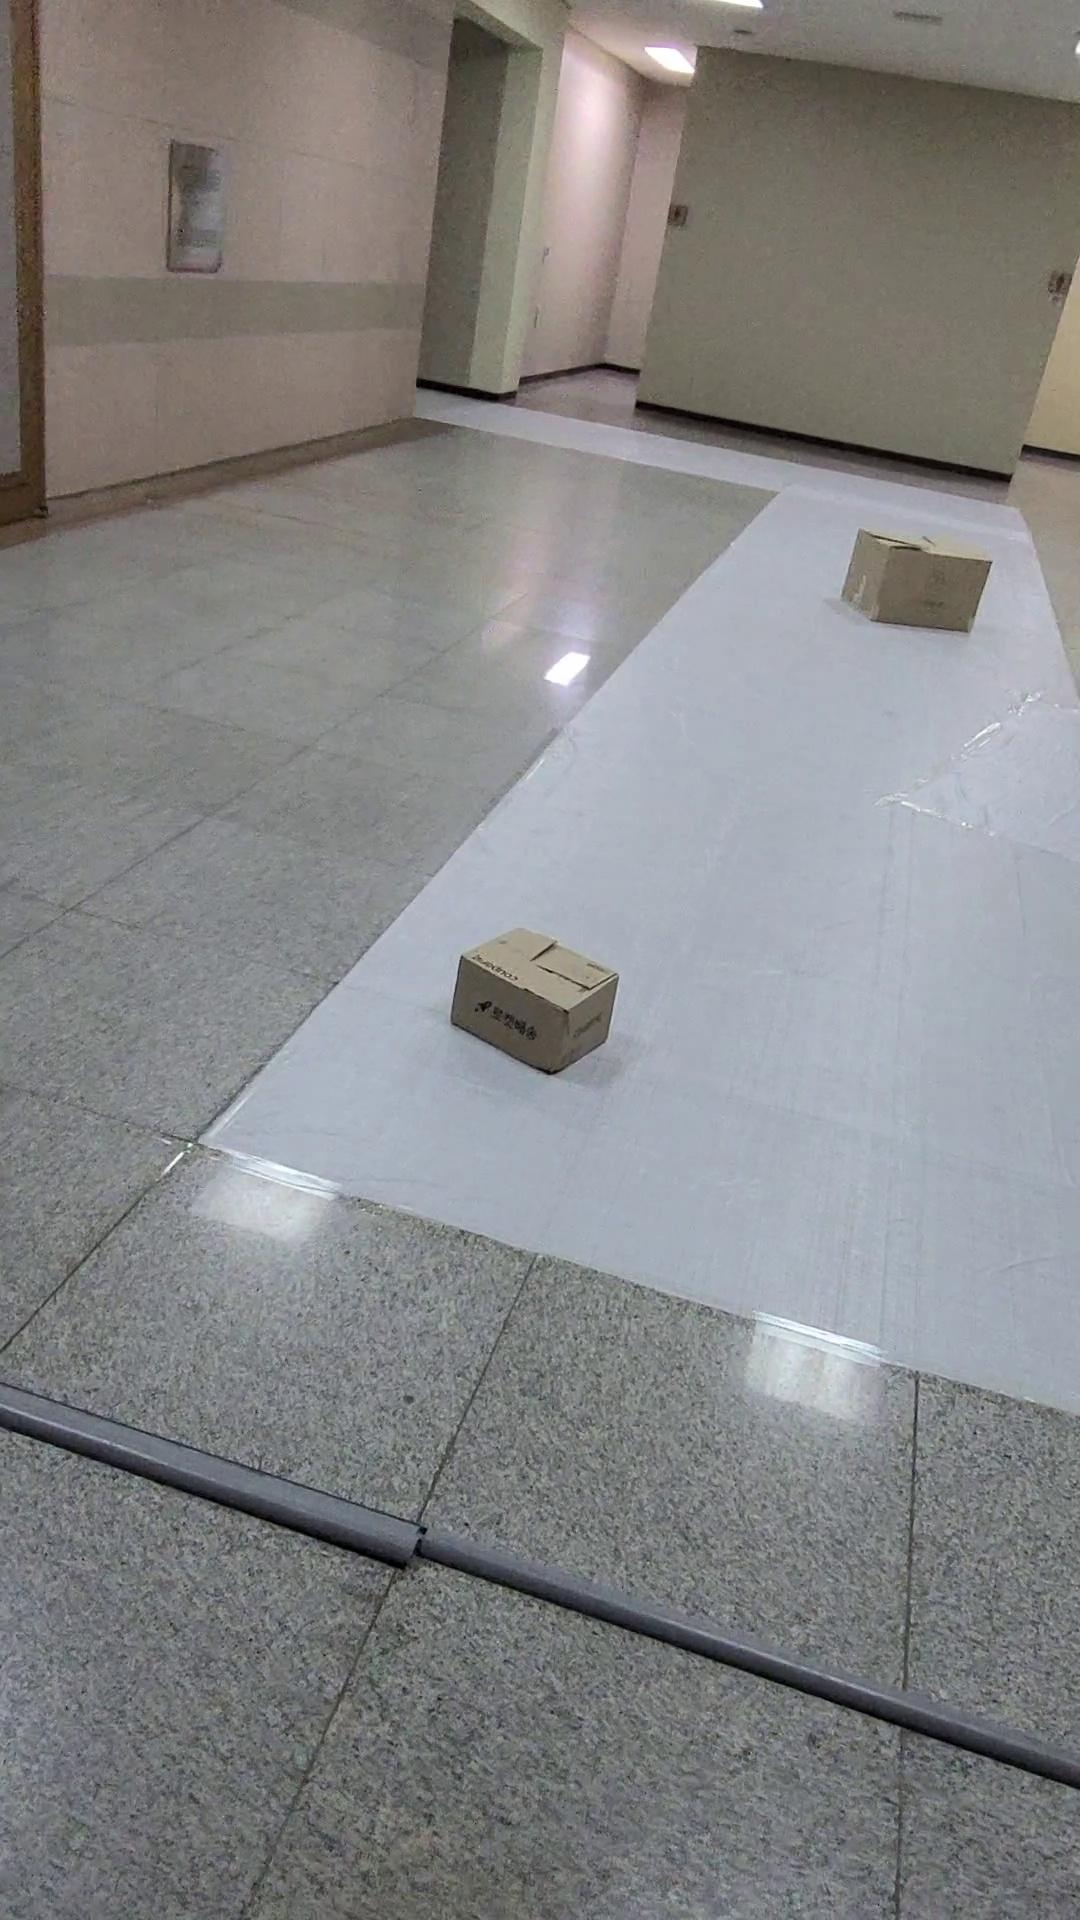Box: (433, 890, 642, 1095), (811, 500, 1017, 682)
